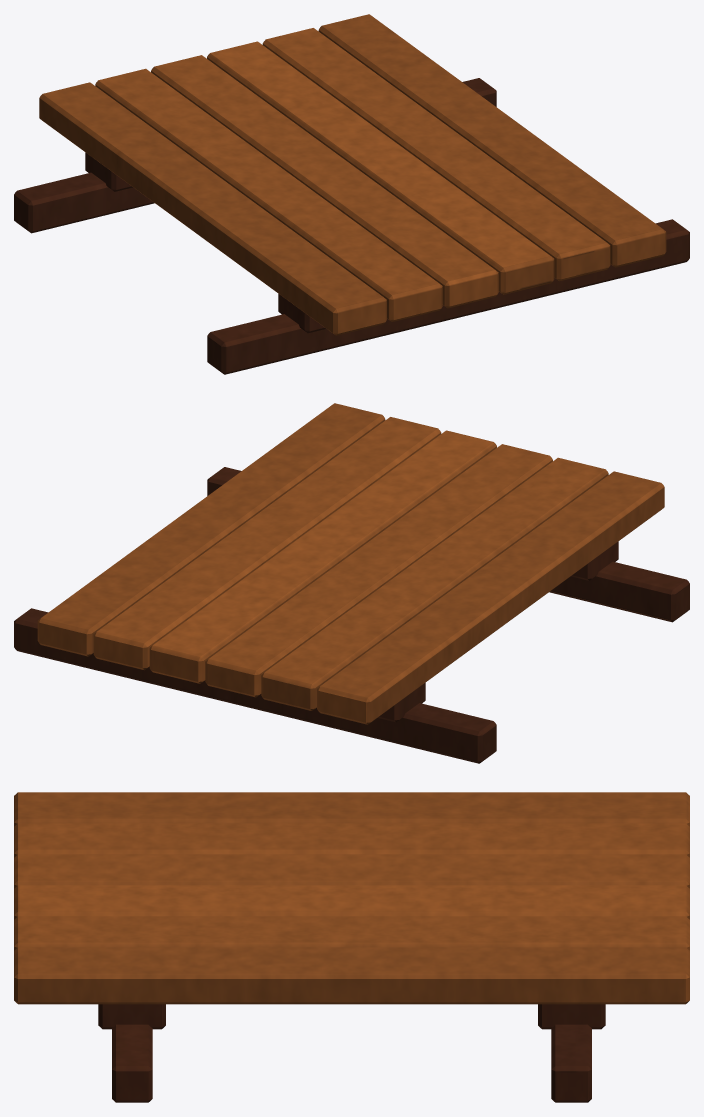
Rendered from TX_D17_Cart_Bed.fbx.
3 views of the same model, one above another, from view 1: azimuth 30°, elevation 25°; view 2: azimuth 150°, elevation 25°; view 3: azimuth 270°, elevation 25° (orthographic). The views are drawn at different scales.
Parts seen in each view (by area): view 1: TX_D17_Cart_Bed; view 2: TX_D17_Cart_Bed; view 3: TX_D17_Cart_Bed.
Boxes of the visible parts, x1,y1,x2,y2 form: TX_D17_Cart_Bed: [14, 14, 689, 374]; TX_D17_Cart_Bed: [14, 403, 689, 763]; TX_D17_Cart_Bed: [14, 792, 689, 1102].
Size of the model in its own units: 1.82 by 0.3 by 2.
Materials: 2 (2 with a texture image).
